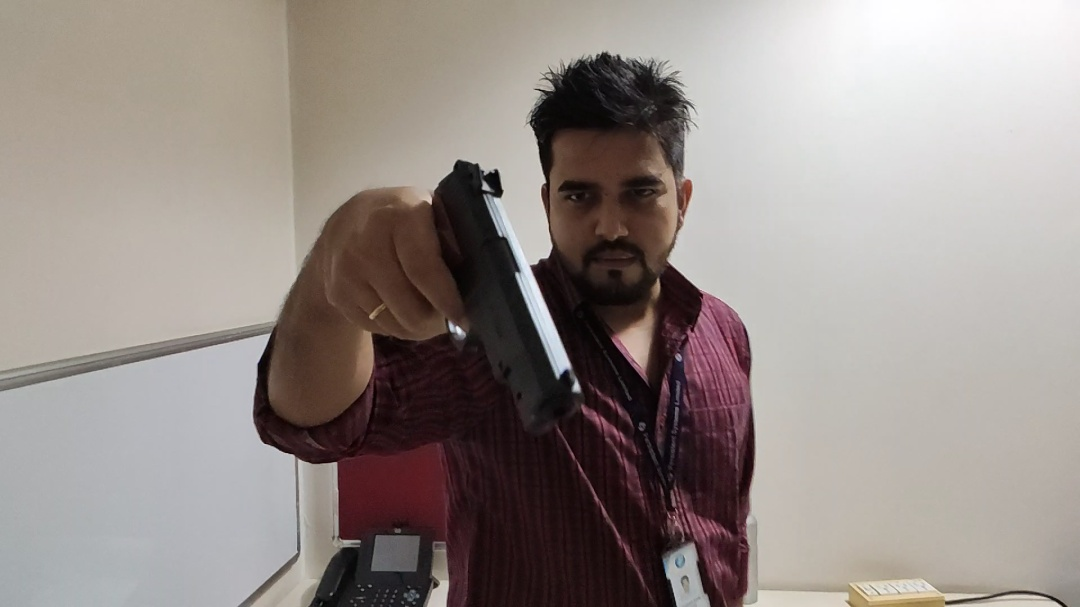gun: (433, 153, 586, 435)
